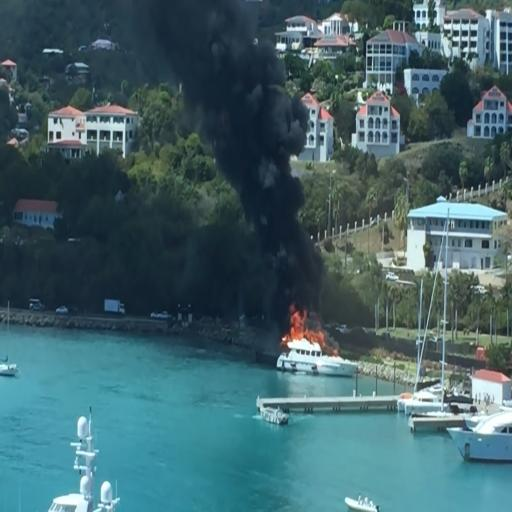fire: (286, 301, 325, 348)
smoke: (206, 40, 299, 162), (163, 0, 264, 86), (236, 125, 303, 226), (268, 207, 325, 294)
